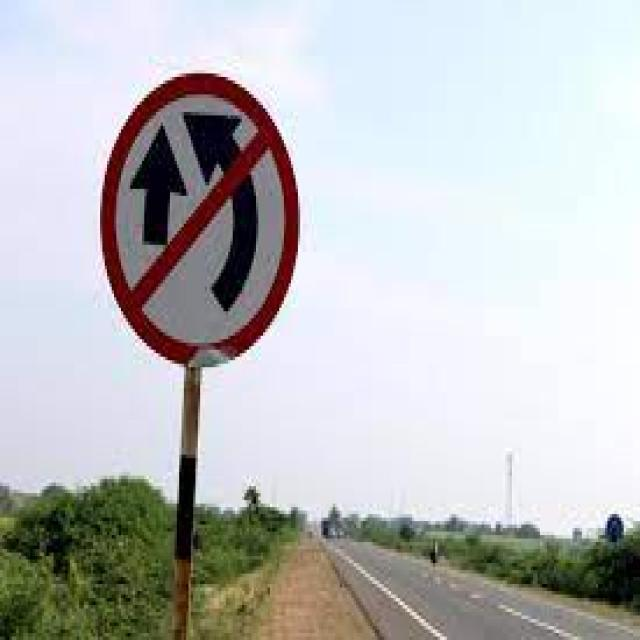overtaking prohibited: (98, 67, 304, 366)
